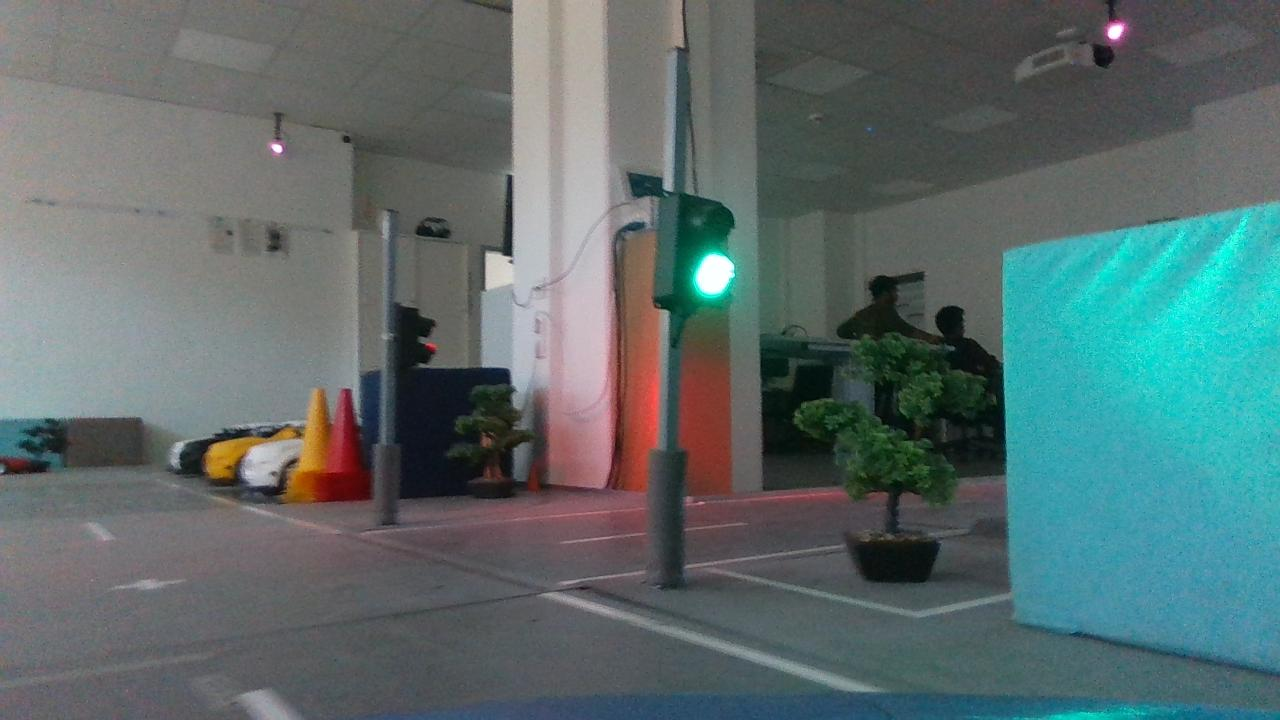traffic_light_green: (635, 176, 756, 333)
